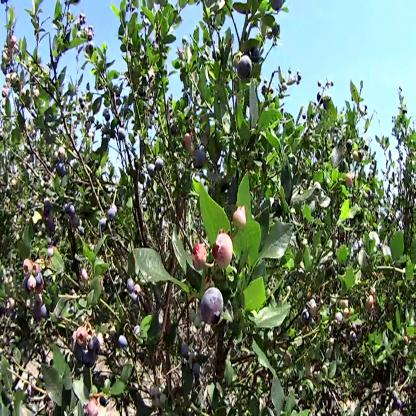intermediate: (215, 233, 235, 270), (192, 245, 209, 271), (77, 329, 89, 346), (184, 136, 193, 151)
mature: (201, 286, 224, 324), (74, 352, 98, 367), (150, 159, 165, 176), (241, 59, 253, 77), (29, 274, 38, 294), (302, 311, 311, 323)
young: (152, 386, 168, 409), (325, 342, 333, 380), (24, 263, 43, 276), (80, 267, 90, 283), (335, 311, 345, 325)
